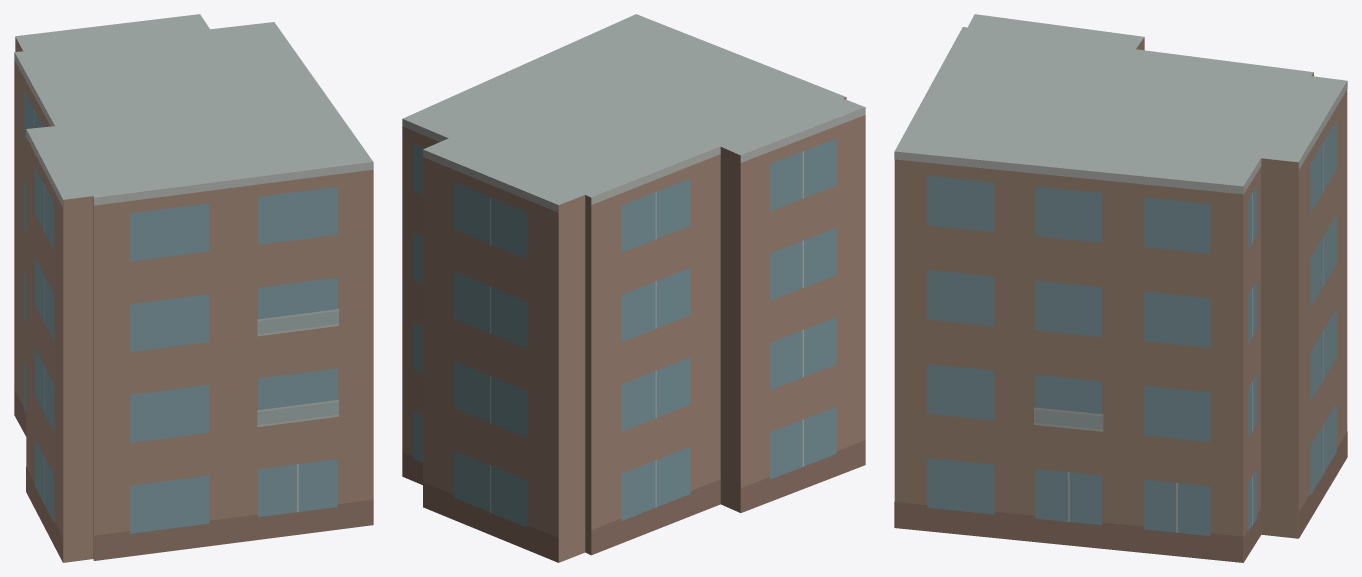
Rendered from survey-upis-32962741.glb.
The picture shows the model from 3 angles, left to right: view 1: azimuth 30°, elevation 25°; view 2: azimuth 150°, elevation 25°; view 3: azimuth 270°, elevation 25°; orthographic projection. The views are drawn at different scales.
Visible parts, largest first — view 1: survey-upis-32962741.tmp; view 2: survey-upis-32962741.tmp; view 3: survey-upis-32962741.tmp.
Part boxes in pixels (<box>): survey-upis-32962741.tmp: <box>14,14,373,562</box>; survey-upis-32962741.tmp: <box>402,14,865,562</box>; survey-upis-32962741.tmp: <box>894,14,1347,562</box>.
Size of the model in its own units: 11.3 by 11.5 by 12.55.
